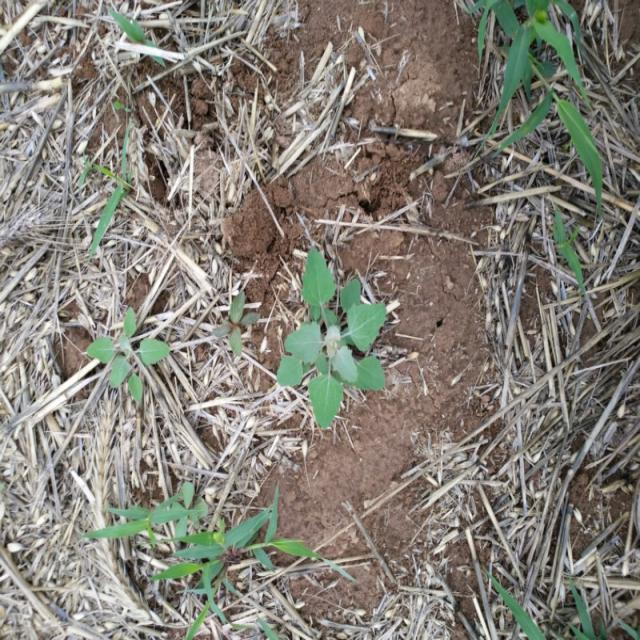goosefoots: (279, 245, 402, 422)
